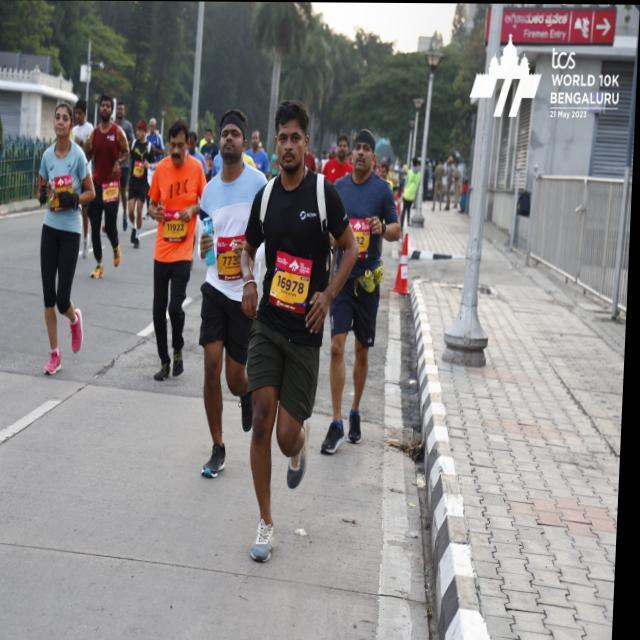dorsal: (274, 246, 316, 314), (213, 232, 256, 282), (164, 208, 192, 245)
